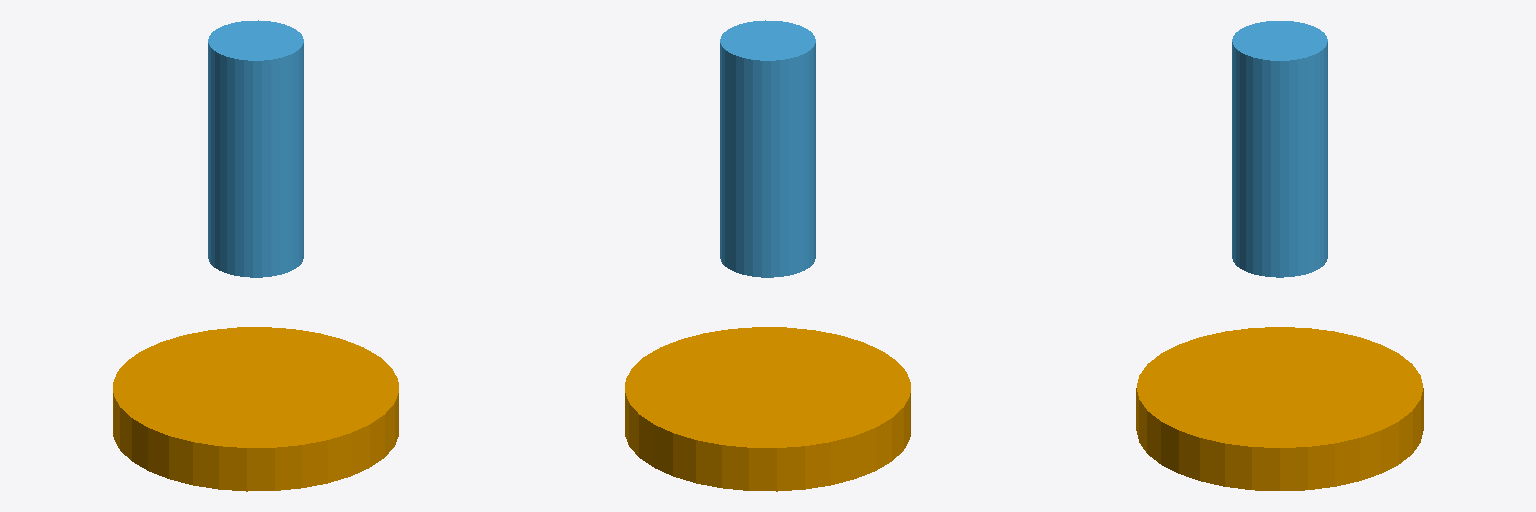
The robot description file, URDF, robot "small_robot":
<?xml version="1.0"?>
<!--
	mass	radius	height	Ixx		Iyy		Izz
link_1	42.412	0.100	0.500	0.9896017	0.9896017	0.2120575
link_2	24.429	0.080	0.450	0.4513262	0.4513262	0.0781729
link_3	13.741	0.060	0.450	0.2442521	0.2442521	0.0247344
link_4	4.072	0.040	0.300	0.0321649	0.0321649	0.0032572
link_5	1.018	0.020	0.300	0.0077359	0.0077359	0.0002036
link_6	0.170	0.020	0.050	0.0000523	0.0000523	0.0000339
link_7	0.170	0.020	0.050	0.0000523	0.0000523	0.0000339
-->

<robot name="small_robot">

  <link name="link_1">
    <inertial>
      <origin xyz="0 0 0" rpy="0 0 0"/>
      <mass value="76.34"/>
      <inertia ixx="0.9896017" ixy="0" ixz="0" iyy="0.9896017" iyz="0" izz="0.2120575"/>
    </inertial>
    <visual>
      <origin xyz="0 0 0" rpy="0 0 0"/>
      <geometry>
        <cylinder radius="0.3" length="0.1"/>
      </geometry>
    </visual>
  </link>

  <link name="link_2">
    <inertial>
      <origin xyz="0 0 0" rpy="0 0 0"/>
      <mass value="42.412"/>
      <inertia ixx="0.4513262" ixy="0" ixz="0" iyy="0.4513262" iyz="0" izz="0.0781729"/>
    </inertial>
    <visual>
      <origin xyz="0 0 0.3" rpy="0 0 0"/>
      <geometry>
        <cylinder radius="0.1" length="0.5"/>
      </geometry>
    </visual>
  </link>

  <joint name="joint_1" type="revolute">
    <parent link="link_1"/>
    <child link="link_2"/>
    <origin xyz="0 0 0.3" rpy="0 0 0"/>
    <axis xyz="0 0 1"/>
    <limit effort="100" velocity="100" lower="-100" upper="100" />
  </joint>

</robot>

--- What the picture shows (computed from the rendered views, not written in the file) ---
Views: 3 orthographic renders of the robot side by side, from view 1: azimuth 30°, elevation 25°; view 2: azimuth 150°, elevation 25°; view 3: azimuth 270°, elevation 25°.
Model small_robot with 2 links and 1 joints (1 revolute), rooted at link_1, posed every joint at zero.
Visible links, largest first — view 1: link_1, link_2; view 2: link_1, link_2; view 3: link_1, link_2.
Boxes of the visible links, <box> form: link_1: <box>113,327,398,491</box>; link_2: <box>208,20,303,277</box>; link_1: <box>625,327,910,491</box>; link_2: <box>720,20,815,277</box>; link_1: <box>1136,327,1423,490</box>; link_2: <box>1232,21,1327,277</box>.
Bounding box of the posed robot: 0.6 × 0.6 × 0.9 m (x, y, z).
Geometry: primitives only (box / cylinder / sphere), no mesh files.